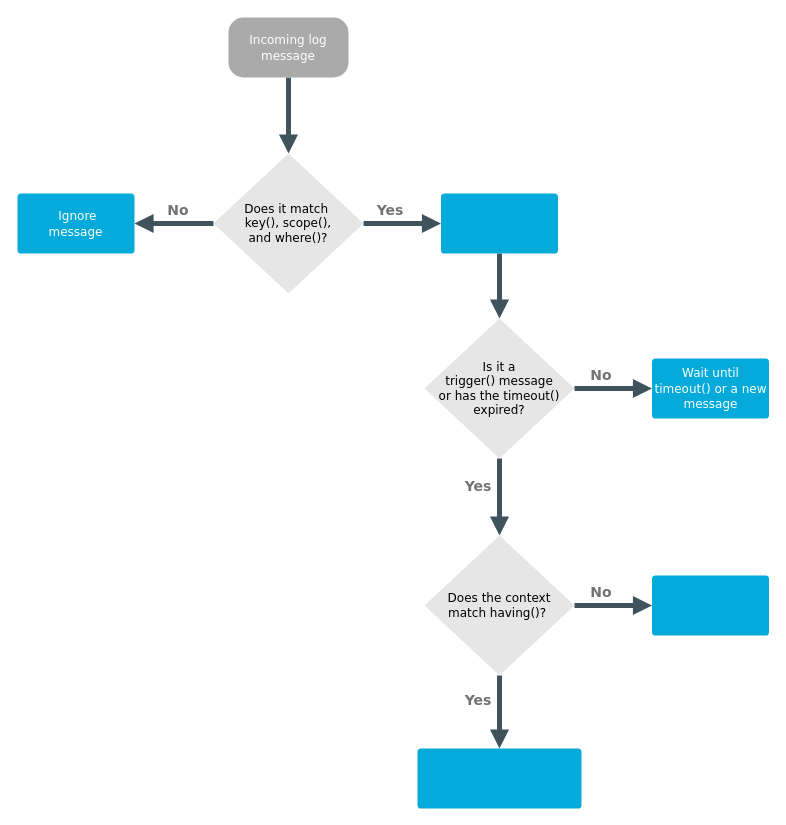
This 786x825 diagram has some shape labels left out. The centre of each missing label's shape, as x and y in pixels:
Add message to context: point 499,223
Close the context and do nothing: point 710,605
Inject the aggregate() log message and close the context: point 499,778
